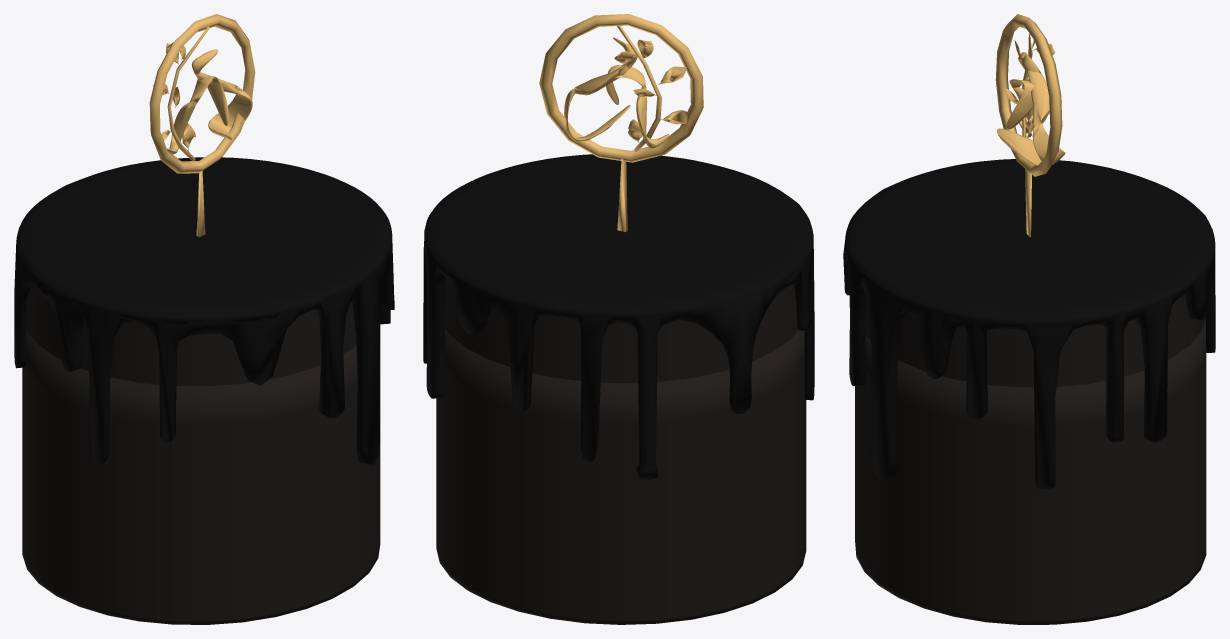
The model's file is 1-tier-black-ganache-ring.glb.
3 renders of one model, left to right at view 1: azimuth 30°, elevation 25°; view 2: azimuth 150°, elevation 25°; view 3: azimuth 270°, elevation 25°, orthographic.
Visible parts, largest first — view 1: Cylinder.019, tHE ICING, Cylinder.017; view 2: Cylinder.019, tHE ICING, Cylinder.017; view 3: Cylinder.019, tHE ICING, Cylinder.017.
Boxes of the visible parts, bbox=[...] form: Cylinder.019: bbox=[22, 286, 380, 624]; tHE ICING: bbox=[14, 157, 394, 464]; Cylinder.017: bbox=[149, 14, 255, 237]; Cylinder.019: bbox=[436, 278, 806, 624]; tHE ICING: bbox=[423, 154, 814, 479]; Cylinder.017: bbox=[539, 14, 703, 232]; Cylinder.019: bbox=[855, 295, 1206, 624]; tHE ICING: bbox=[843, 159, 1215, 489]; Cylinder.017: bbox=[995, 14, 1065, 237].
Size of the model in its own units: 2.8 by 4.23 by 2.71.
